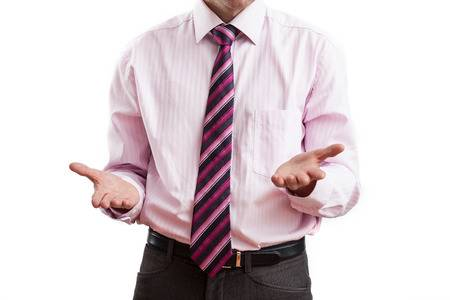F_belt: (142, 227, 315, 265)
F_shirt: (94, 3, 359, 252)
F_tie: (187, 23, 232, 277)
